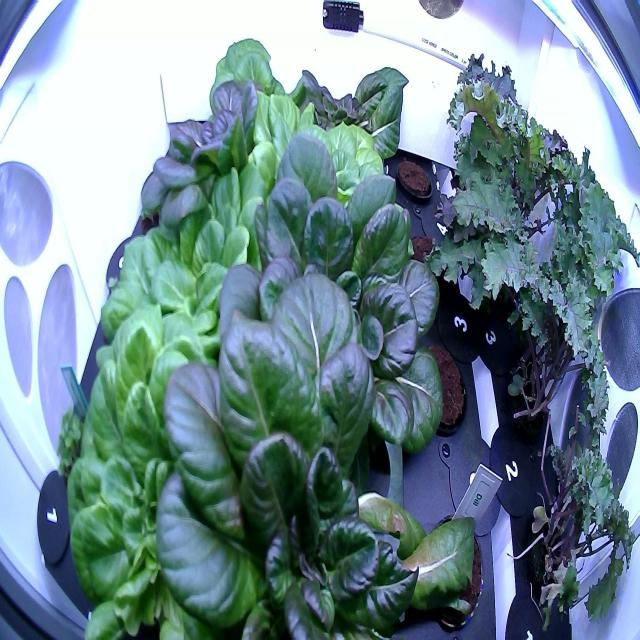Ready: (61, 298, 262, 639), (87, 157, 271, 445), (239, 86, 409, 305), (128, 71, 270, 305)
pod: (402, 330, 474, 442), (389, 148, 437, 208)
young: (148, 262, 481, 640), (191, 121, 455, 470), (268, 46, 412, 195)
